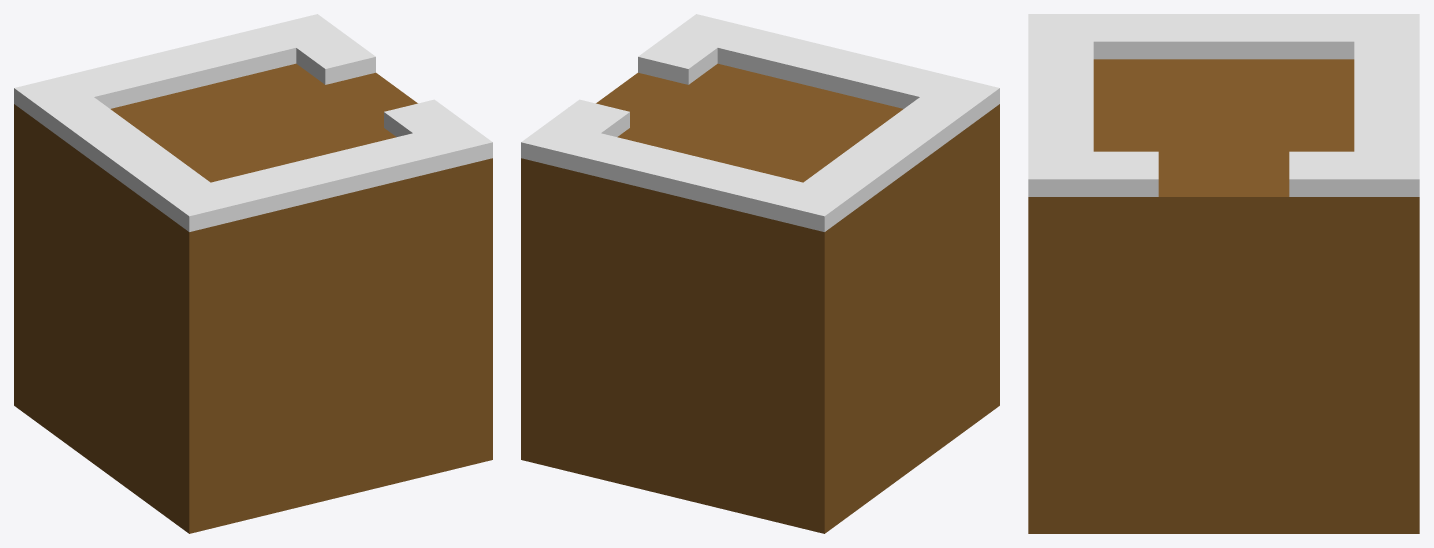
The model's file is WinterStartCube.fbx.
3 views of the same model, side by side, from view 1: azimuth 30°, elevation 25°; view 2: azimuth 150°, elevation 25°; view 3: azimuth 270°, elevation 25° (orthographic). The views are drawn at different scales.
Parts seen in each view (by area): view 1: WinterStartCube; view 2: WinterStartCube; view 3: WinterStartCube.
Boxes of the visible parts, <box> form: WinterStartCube: <box>14,14,492,533</box>; WinterStartCube: <box>521,14,999,533</box>; WinterStartCube: <box>1028,14,1419,533</box>.
Bounding box in the file's own units: 1 × 1 × 1.
